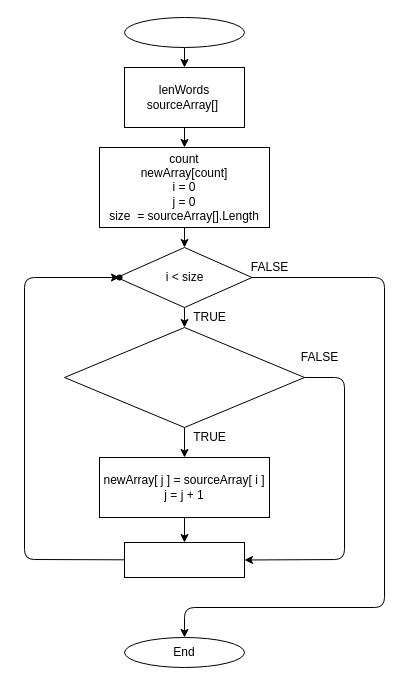
Image size: 410x685. Some labels were removed from this diagram. Each missing label, with the centre of its shape:
"i = i + 1" goes at pixel 184 560.
"sourceArray[ i ].Length <= lenWords" goes at pixel 184 377.
"Start" goes at pixel 184 32.
